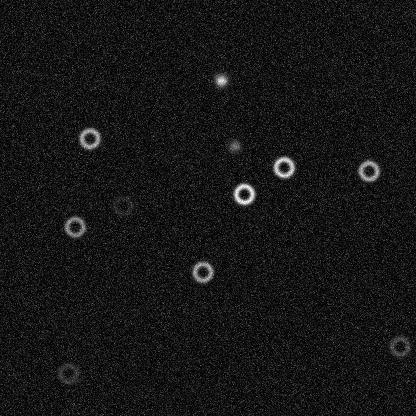Ring: (387, 334, 411, 358), (271, 155, 295, 179), (62, 214, 86, 238), (110, 193, 134, 217), (231, 181, 255, 205), (77, 126, 101, 150), (56, 361, 80, 385), (356, 158, 380, 182), (190, 259, 214, 283)
Spot: (226, 138, 242, 154), (213, 72, 229, 88)
